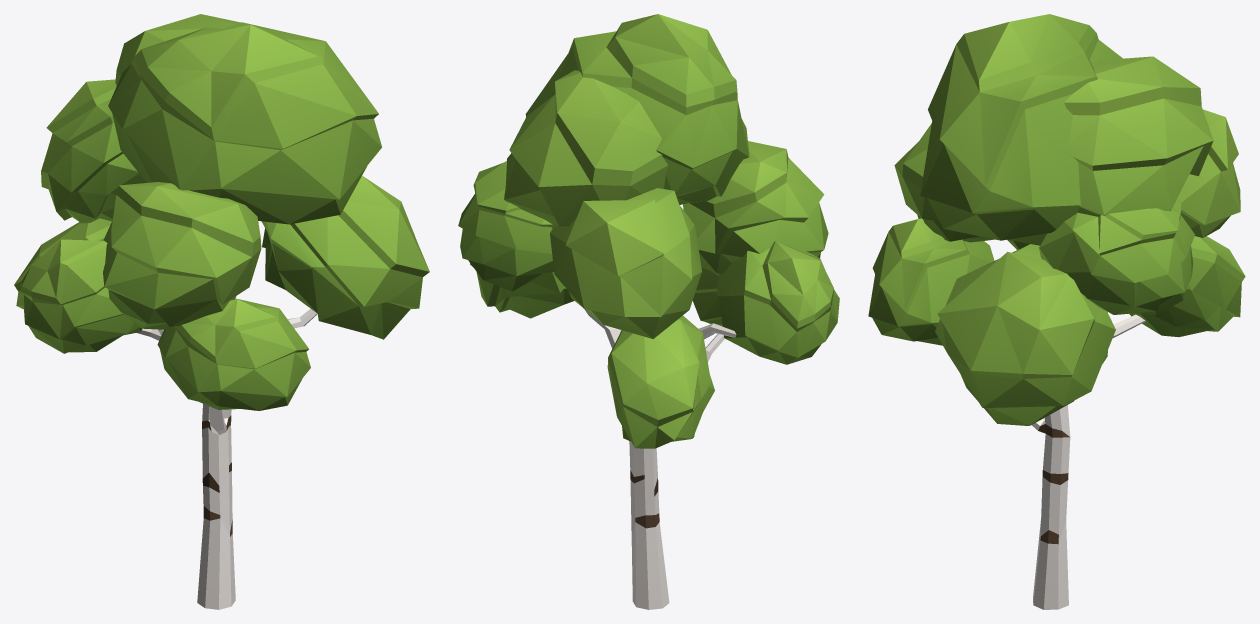
Rendered from Birch.obj.
3 renders of one model, left to right at view 1: azimuth 30°, elevation 25°; view 2: azimuth 150°, elevation 25°; view 3: azimuth 270°, elevation 25°, orthographic. The views are drawn at different scales.
Parts seen in each view (by area): view 1: PP_Birch_Tree_06; view 2: PP_Birch_Tree_06; view 3: PP_Birch_Tree_06.
Boxes of the visible parts, <box> form: PP_Birch_Tree_06: <box>14,14,429,609</box>; PP_Birch_Tree_06: <box>458,14,839,609</box>; PP_Birch_Tree_06: <box>868,14,1245,609</box>.
Bounding box in the file's own units: 5.89 × 8.86 × 5.16.
1 material, 1 textured.
